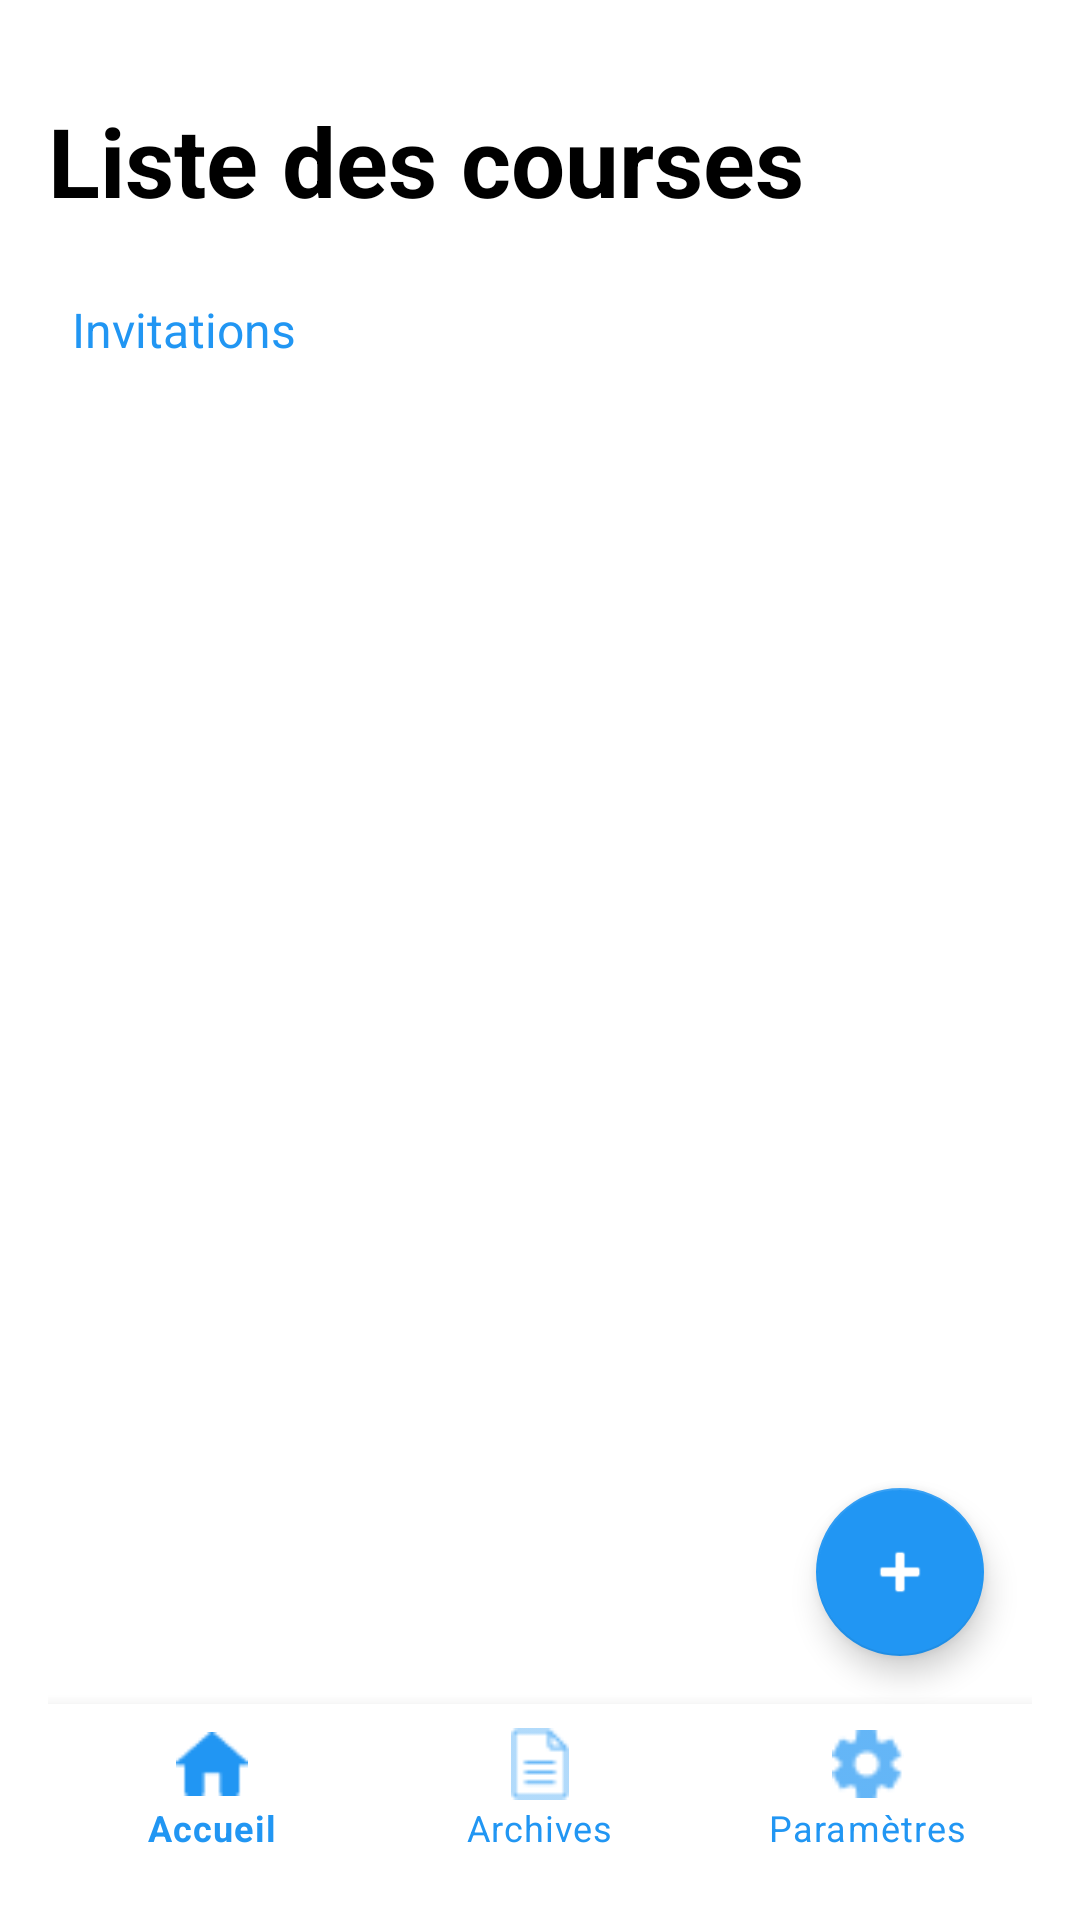

Icon click points for this 1080×1920 phone screenshot, format (x,y):
Ajouter une liste: (900,1572)
